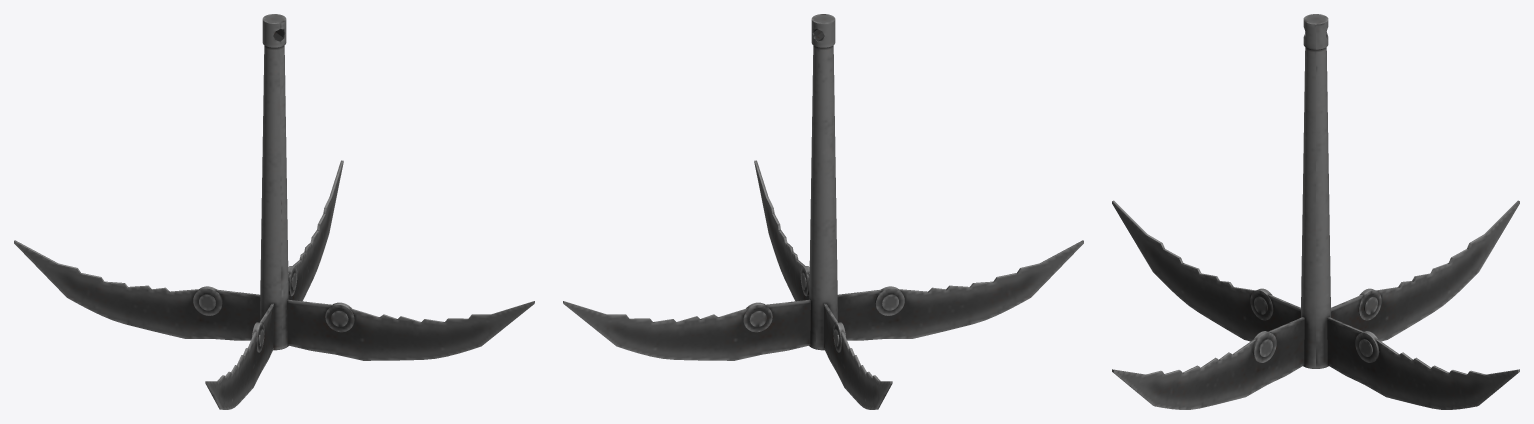
File: Hook.fbx
The picture shows the model from 3 angles, left to right: view 1: azimuth 30°, elevation 25°; view 2: azimuth 150°, elevation 25°; view 3: azimuth 270°, elevation 25°; orthographic projection. The views are drawn at different scales.
Parts seen in each view (by area): view 1: Cylinder; view 2: Cylinder; view 3: Cylinder.
Boxes of the visible parts, bbox=[...] form: Cylinder: bbox=[14, 14, 534, 409]; Cylinder: bbox=[563, 14, 1083, 409]; Cylinder: bbox=[1112, 14, 1519, 409].
Bounding box in the file's own units: 626 × 600 × 636.
1 material, 1 textured.
